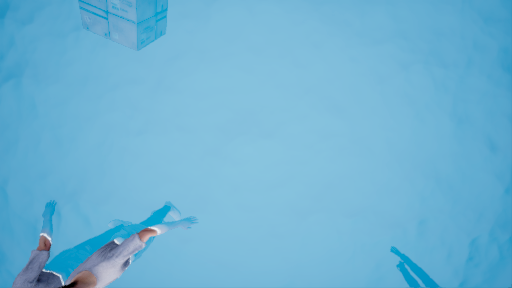person: (19, 197, 198, 288)
